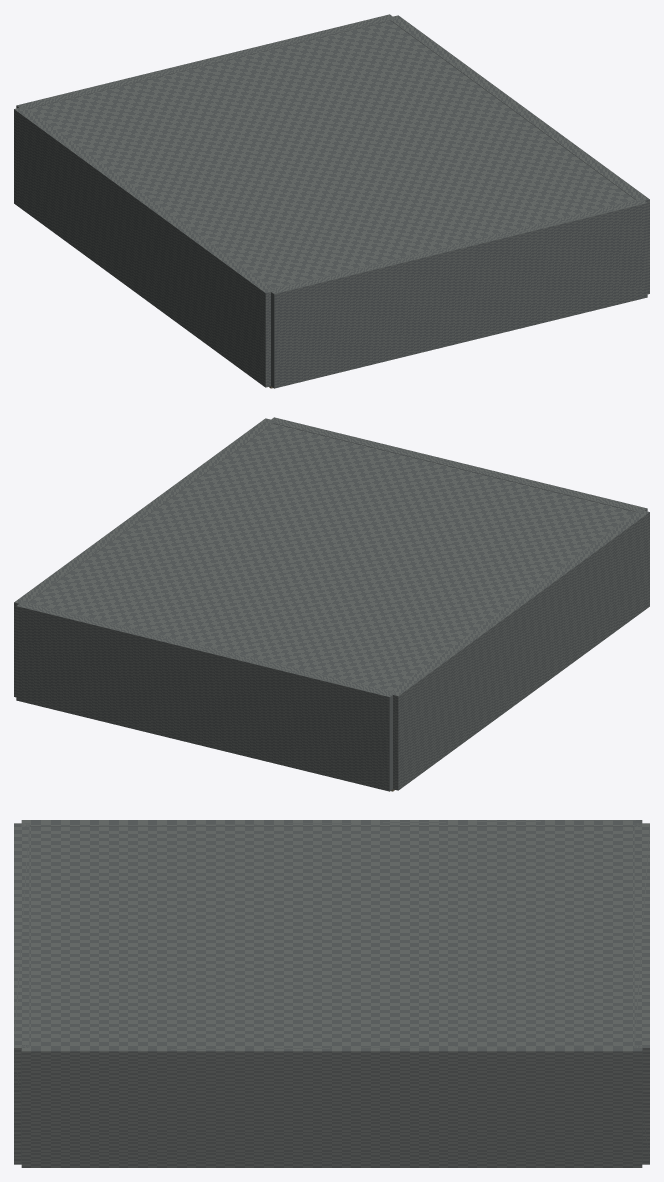
File: tower_lobby.glb
3 views of the same model, one above another, from view 1: azimuth 30°, elevation 25°; view 2: azimuth 150°, elevation 25°; view 3: azimuth 270°, elevation 25° (orthographic). The views are drawn at different scales.
Visible parts, largest first — view 1: tower_lobby; view 2: tower_lobby; view 3: tower_lobby.
Boxes of the visible parts, x1,y1,x2,y2 form: tower_lobby: (14,14,649,388); tower_lobby: (14,417,649,791); tower_lobby: (14,820,649,1167).
Bounding box in the file's own units: 12.35 × 2.97 × 14.35.
Materials: 3 (3 with a texture image).
